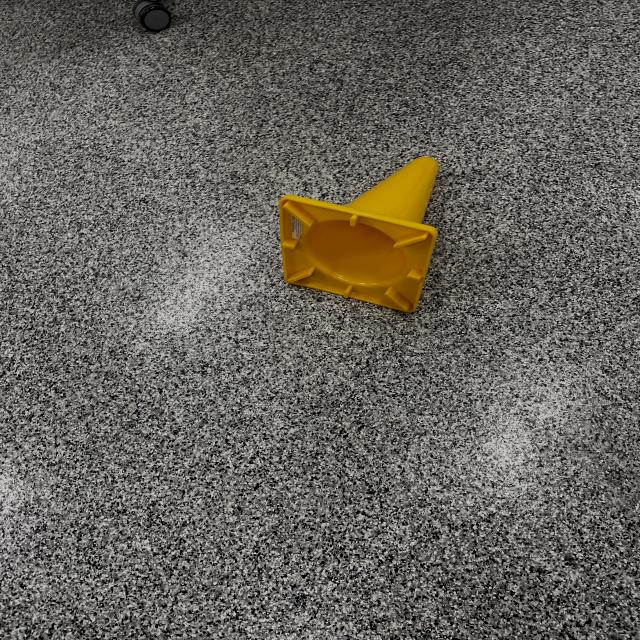frc_cone: (259, 143, 439, 317)
